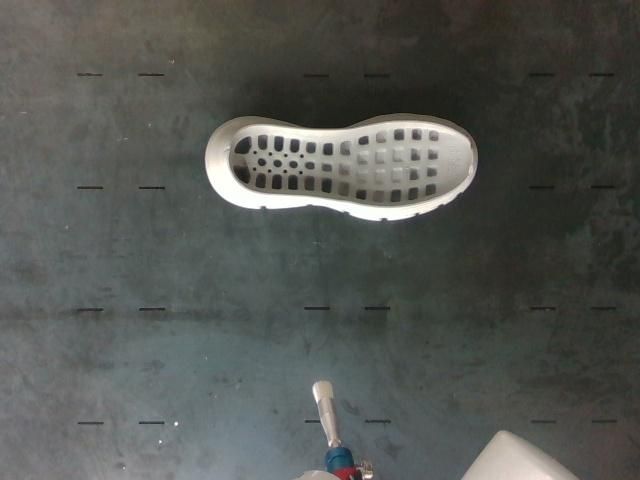shoes: (229, 121, 472, 209)
